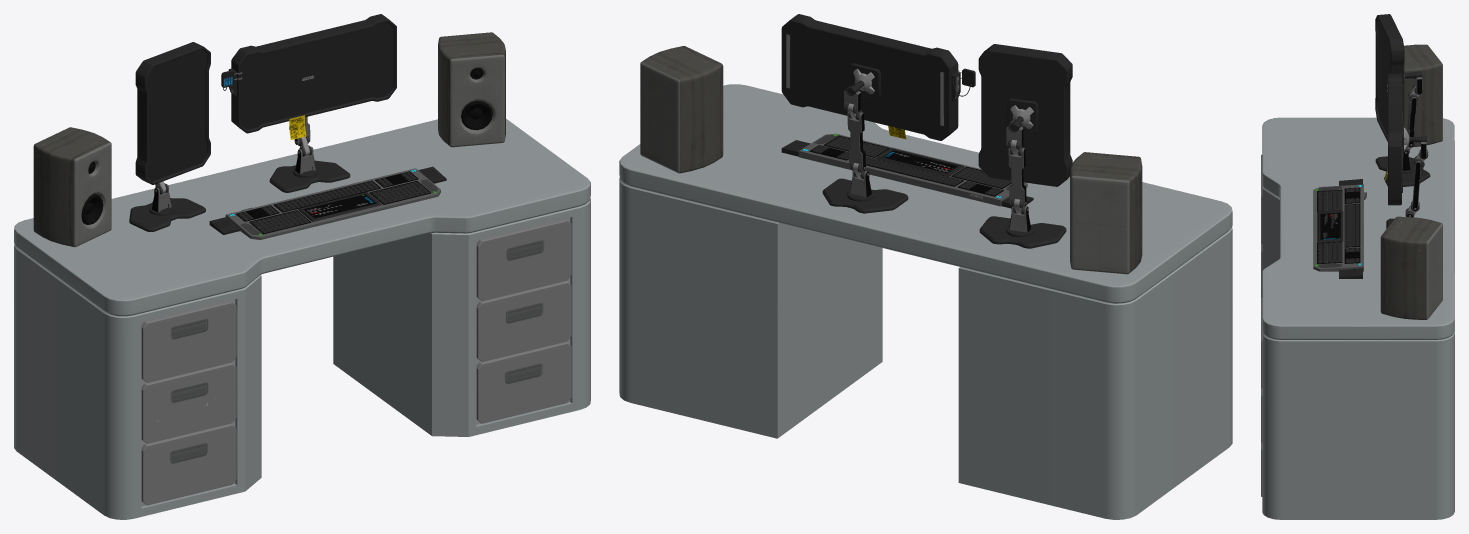
File: pcsetup.glb
3 renders of one model, left to right at view 1: azimuth 30°, elevation 25°; view 2: azimuth 150°, elevation 25°; view 3: azimuth 270°, elevation 25°, orthographic. The views are drawn at different scales.
Visible parts, largest first — view 1: Object_2, Object_13, Object_12, Object_4, Object_5; view 2: Object_2, Object_13, Object_12, Object_4; view 3: Object_2, Object_12, Object_13, Object_4.
Boxes of the visible parts, x1,y1,x2,y2 form: Object_2: [14, 119, 590, 519]; Object_13: [129, 14, 396, 231]; Object_12: [33, 32, 505, 247]; Object_4: [209, 166, 446, 239]; Object_5: [81, 67, 492, 224]; Object_2: [619, 84, 1232, 519]; Object_13: [781, 14, 1072, 248]; Object_12: [640, 46, 1142, 274]; Object_4: [781, 133, 1033, 208]; Object_2: [1261, 117, 1454, 519]; Object_12: [1380, 44, 1442, 319]; Object_13: [1375, 14, 1430, 228]; Object_4: [1313, 179, 1366, 278].
Size of the model in its own units: 1.59 by 1.21 by 0.6222.
Materials: 5 (4 with a texture image).
